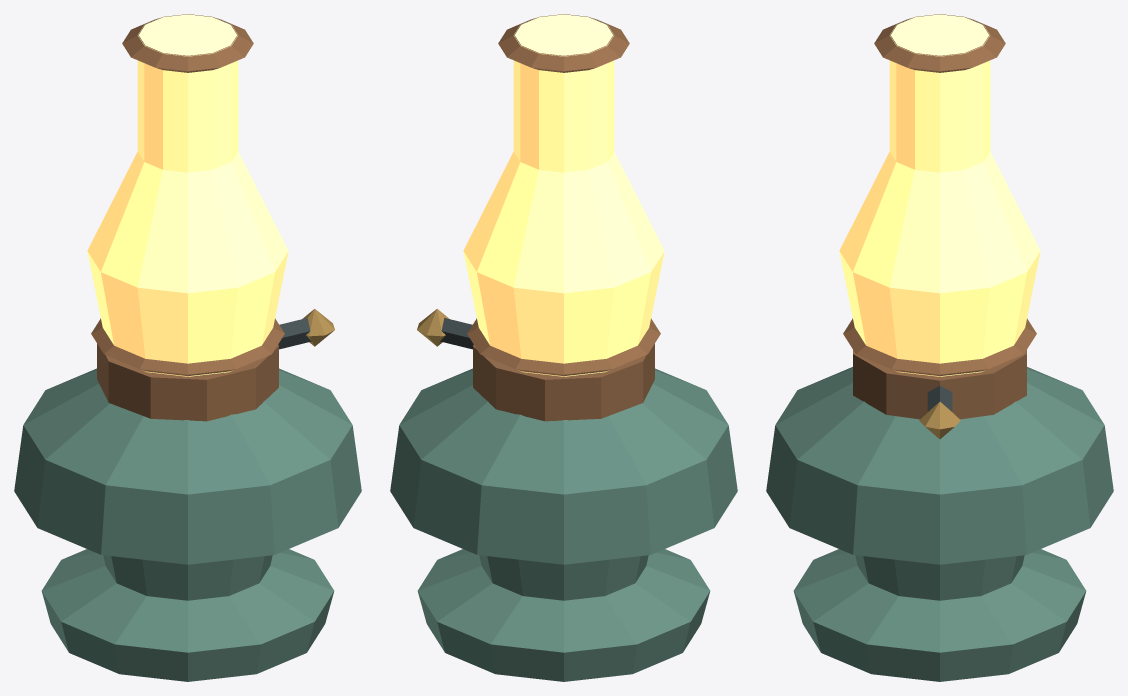
Rendered from decor_oil_lamp.glb.
3 renders of one model, left to right at view 1: azimuth 30°, elevation 25°; view 2: azimuth 150°, elevation 25°; view 3: azimuth 270°, elevation 25°, orthographic.
Parts seen in each view (by area): view 1: geometry, light; view 2: geometry, light; view 3: geometry, light.
Boxes of the visible parts, <box> form: geometry: <box>14,14,361,681</box>; light: <box>87,14,288,376</box>; geometry: <box>390,14,737,681</box>; light: <box>463,14,664,376</box>; geometry: <box>766,14,1113,681</box>; light: <box>839,14,1040,376</box>.
Size of the model in its own units: 0.38 by 0.7104 by 0.38.
